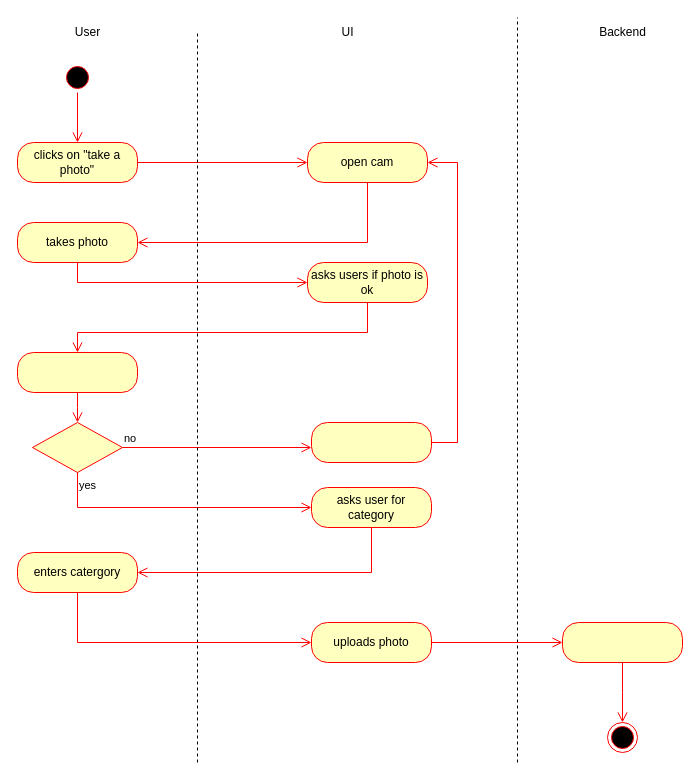
Some shapes in this 700 by 781 pixel diagram are drawn without their labels. Each missing label, with the centre of its shape:
agreed?: (77,447)
delete photo: (371,442)
saves photo: (622,642)
user agrees: (77,372)
